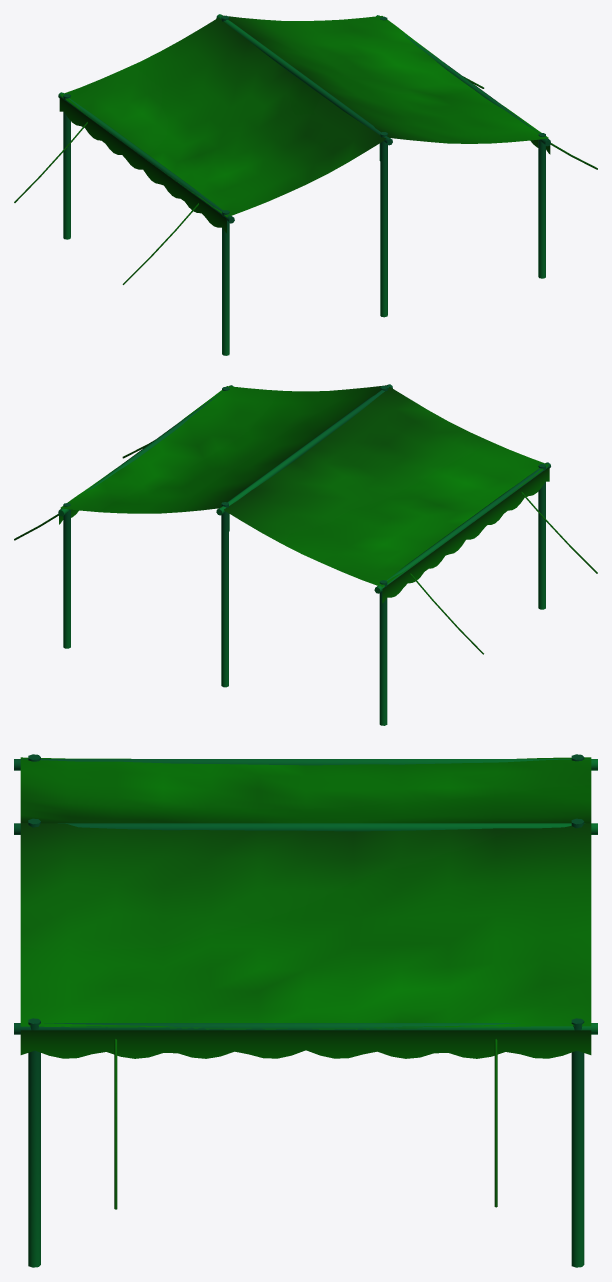
Rendered from ferry_awning.glb.
The picture shows the model from 3 angles, top to bottom: view 1: azimuth 30°, elevation 25°; view 2: azimuth 150°, elevation 25°; view 3: azimuth 270°, elevation 25°; orthographic projection. The views are drawn at different scales.
Visible parts, largest first — view 1: ferry_awning; view 2: ferry_awning; view 3: ferry_awning.
Part boxes in pixels (box(x1,y1,x2,y2)): ferry_awning: box(14, 14, 597, 355); ferry_awning: box(14, 384, 597, 725); ferry_awning: box(14, 754, 597, 1267).
Size of what is drawn, in the model's own units: 6.91 by 2.53 by 4.3.
